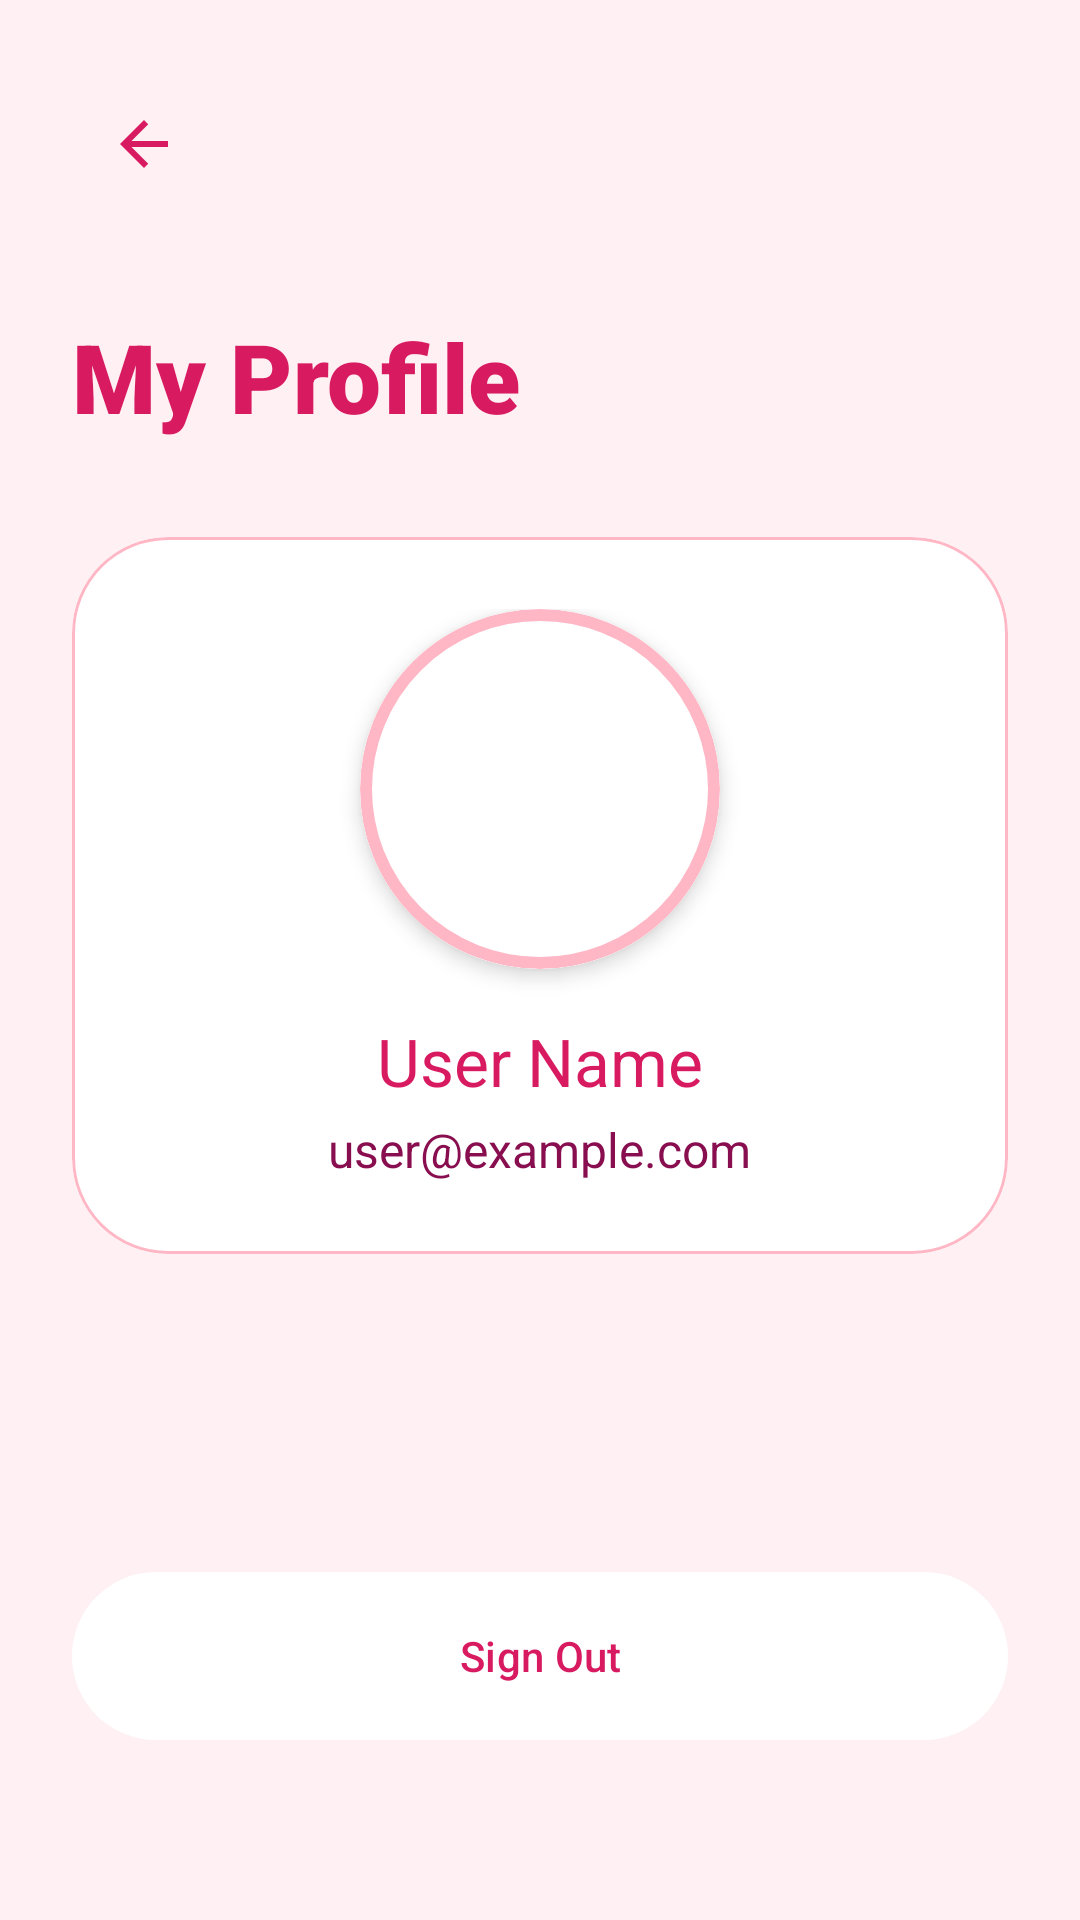

Where to tap for icons on this 1080 x 1920 app screen, as [x,y]:
Back: [144,144]
